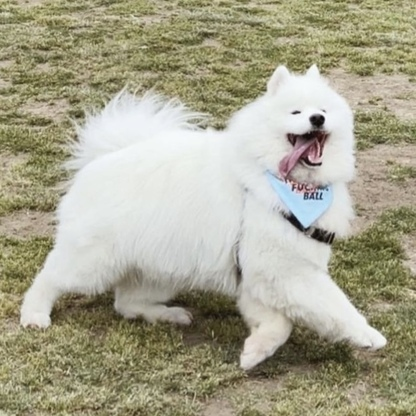samoyed: (11, 59, 390, 375)
